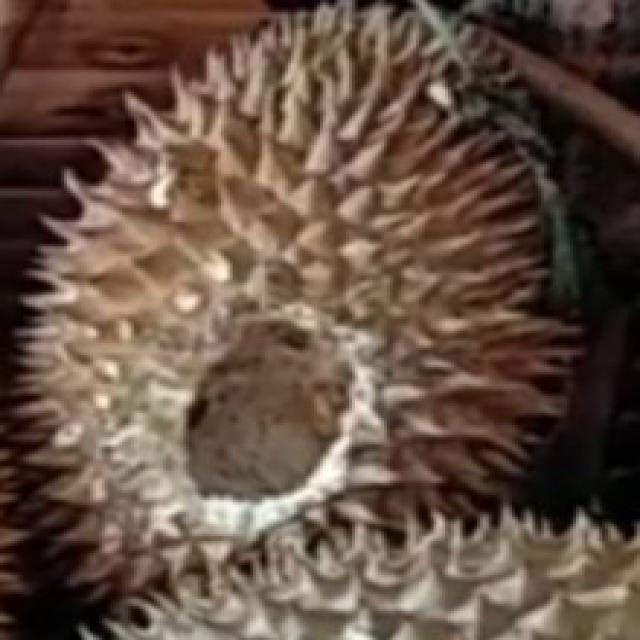defective: (9, 0, 594, 631)
